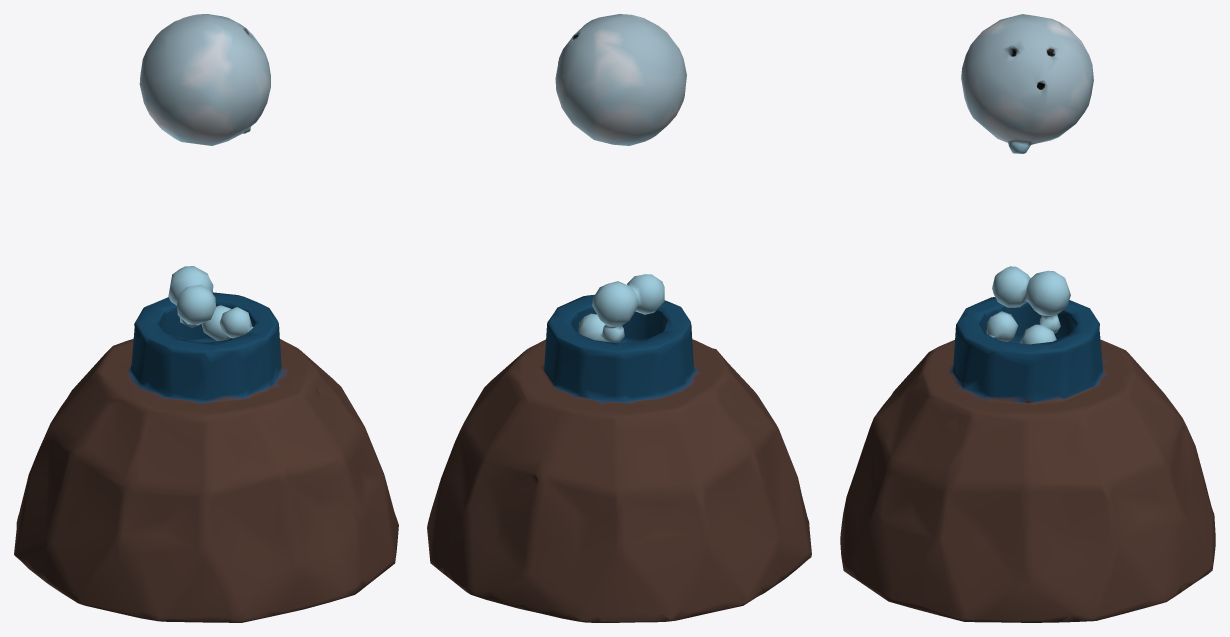
The model's file is gen3d-bubble-vent-lod0.glb.
3 views of the same model, side by side, from view 1: azimuth 30°, elevation 25°; view 2: azimuth 150°, elevation 25°; view 3: azimuth 270°, elevation 25° (orthographic).
Parts seen in each view (by area): view 1: part_0; view 2: part_0; view 3: part_0.
Boxes of the visible parts, x1=… form: part_0: x1=14, y1=14, x2=398, y2=622; part_0: x1=427, y1=14, x2=811, y2=622; part_0: x1=840, y1=14, x2=1215, y2=622.
Bounding box in the file's own units: 0.6507 × 0.9998 × 0.65.
